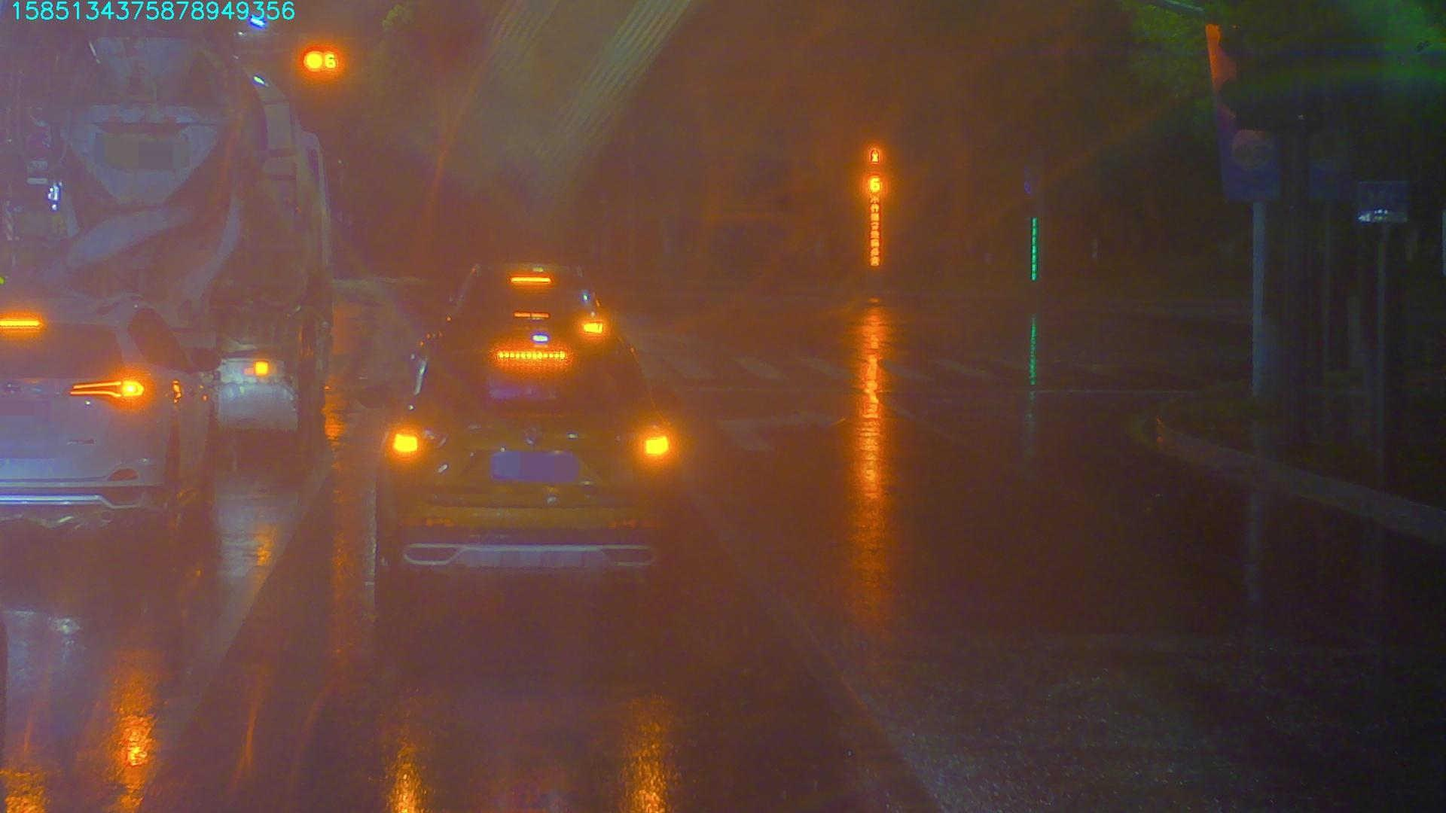red: (304, 45, 346, 78)
